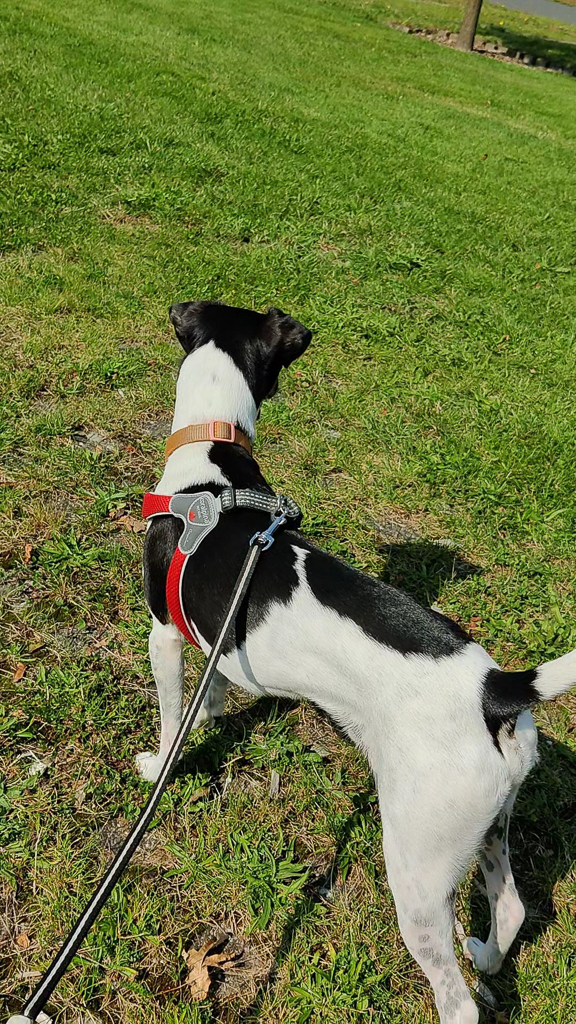Dog: (112, 274, 576, 1024)
